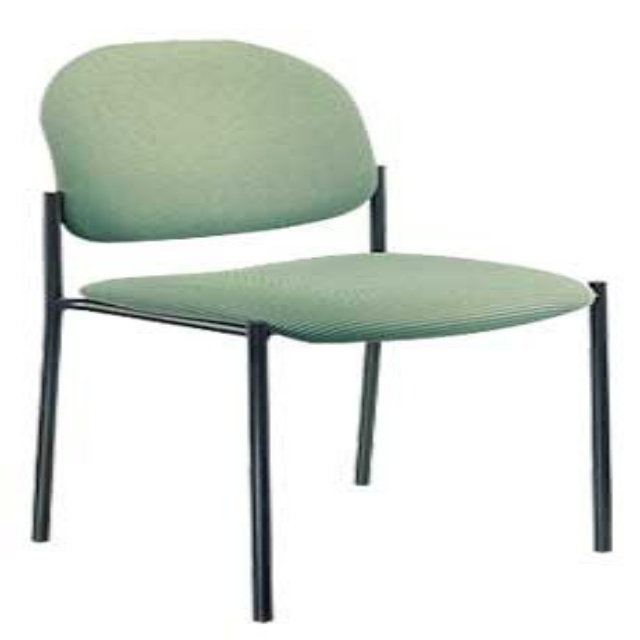obstacle: (33, 40, 609, 620)
